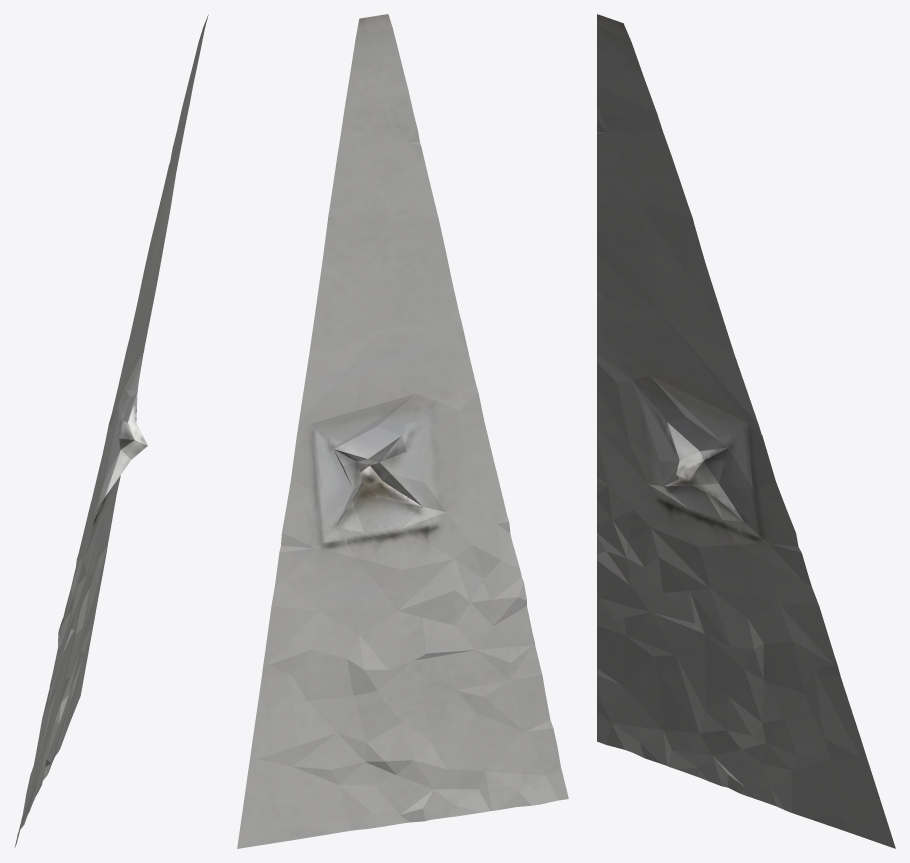
3 renders of one model, left to right at view 1: azimuth 30°, elevation 25°; view 2: azimuth 150°, elevation 25°; view 3: azimuth 270°, elevation 25°, orthographic. The views are drawn at different scales.
Bounding box in the file's own units: 0.4674 × 1.67 × 0.5496.
Materials: 1 (1 with a texture image).
